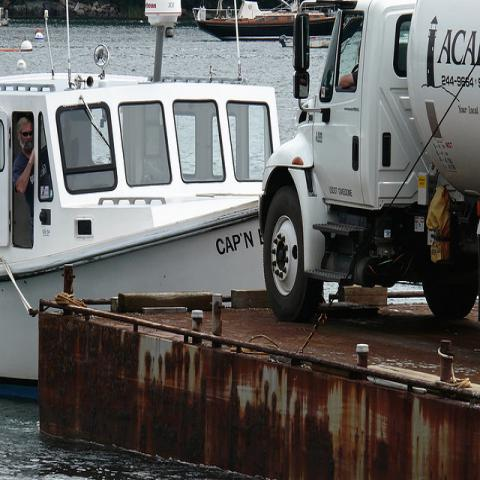truck: (256, 2, 480, 324)
